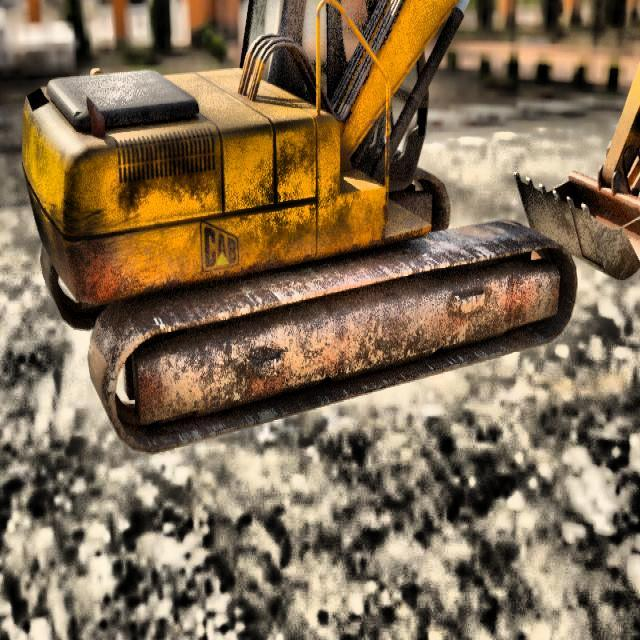excavator: (21, 0, 640, 454)
